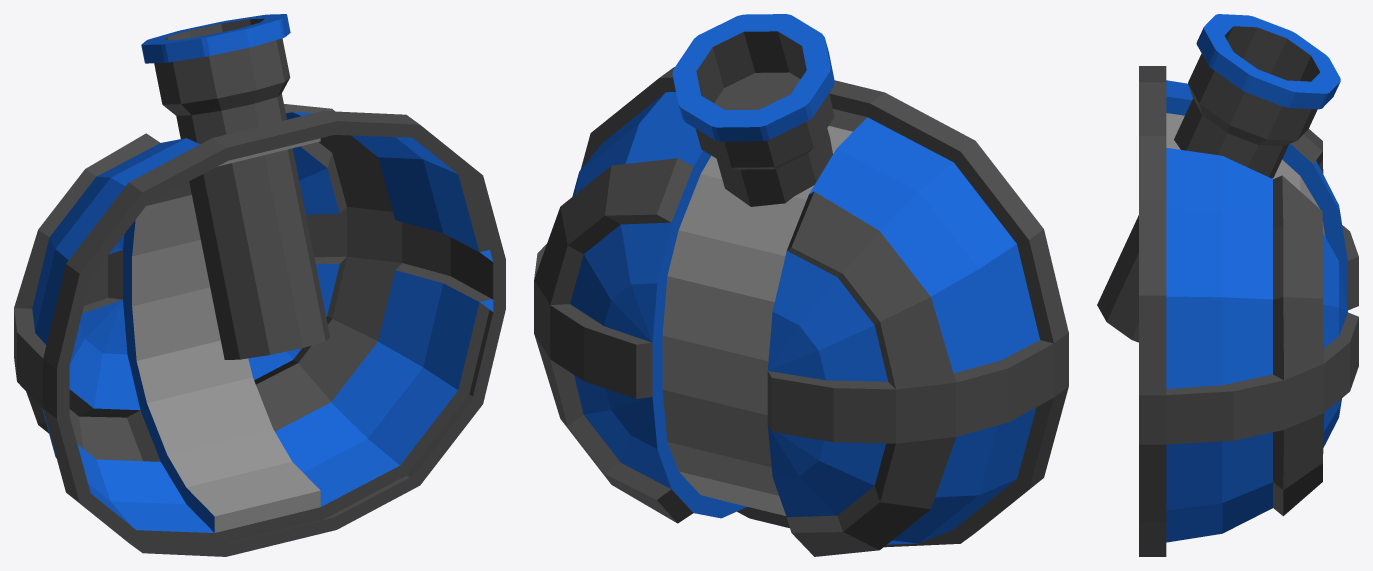
Rendered from Instrument_BombLauncher.fbx.
3 renders of one model, left to right at view 1: azimuth 30°, elevation 25°; view 2: azimuth 150°, elevation 25°; view 3: azimuth 270°, elevation 25°, orthographic. The views are drawn at different scales.
Parts seen in each view (by area): view 1: TurretBase, TurretBarrel; view 2: TurretBase, TurretBarrel; view 3: TurretBase, TurretBarrel.
Boxes of the visible parts, bbox=[...] form: TurretBase: bbox=[14, 104, 505, 556]; TurretBarrel: bbox=[141, 14, 330, 359]; TurretBase: bbox=[534, 67, 1068, 556]; TurretBarrel: bbox=[672, 14, 834, 206]; TurretBase: bbox=[1139, 66, 1358, 556]; TurretBarrel: bbox=[1097, 14, 1340, 342].
Size of the model in its own units: 1.07 by 1.12 by 0.5482.
